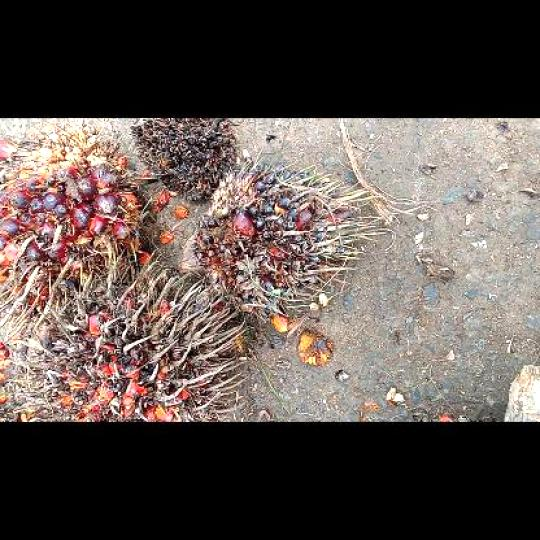masak: (1, 121, 150, 315)
terlalu masak: (27, 256, 240, 419)
